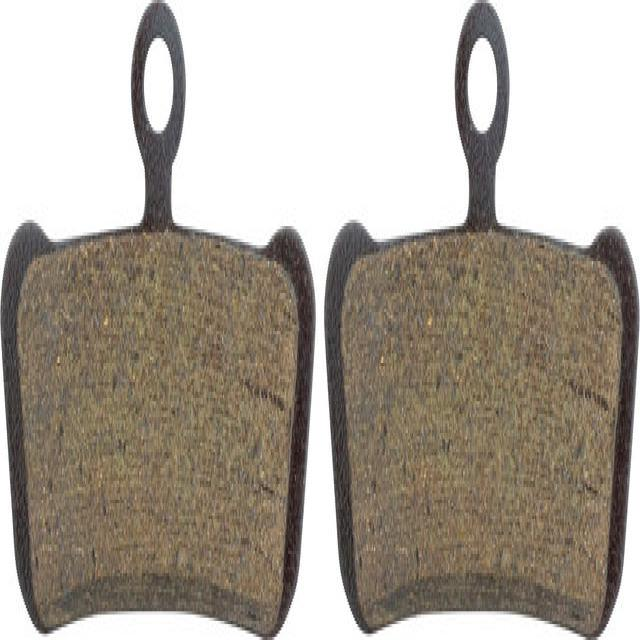brake_pad: (0, 3, 322, 640), (324, 0, 640, 640)
